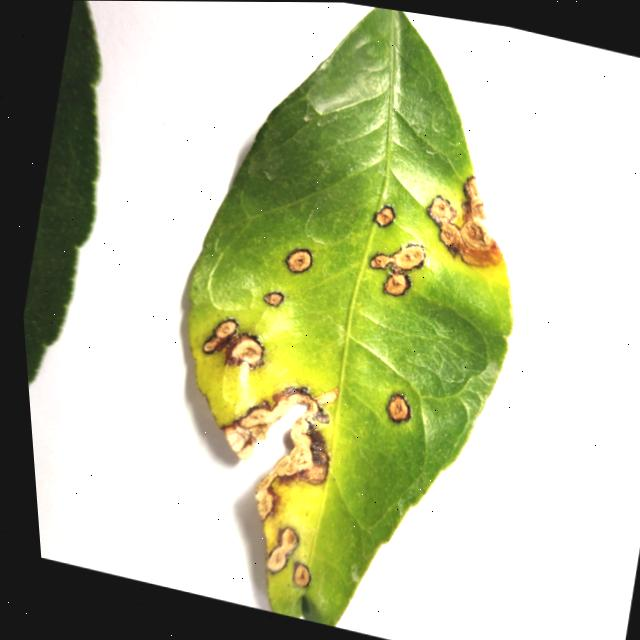antracnose: (188, 7, 510, 625), (224, 388, 337, 519), (427, 177, 500, 267), (370, 244, 424, 295), (203, 333, 262, 368), (266, 527, 297, 572), (386, 394, 409, 422), (285, 249, 311, 273), (372, 206, 394, 227), (214, 319, 236, 339), (292, 563, 309, 587), (263, 292, 283, 306), (218, 320, 235, 329)
